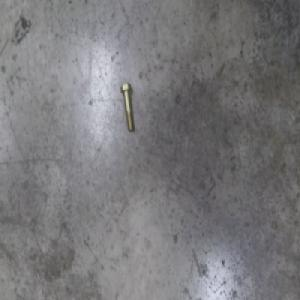Bolt: (120, 82, 133, 131)
